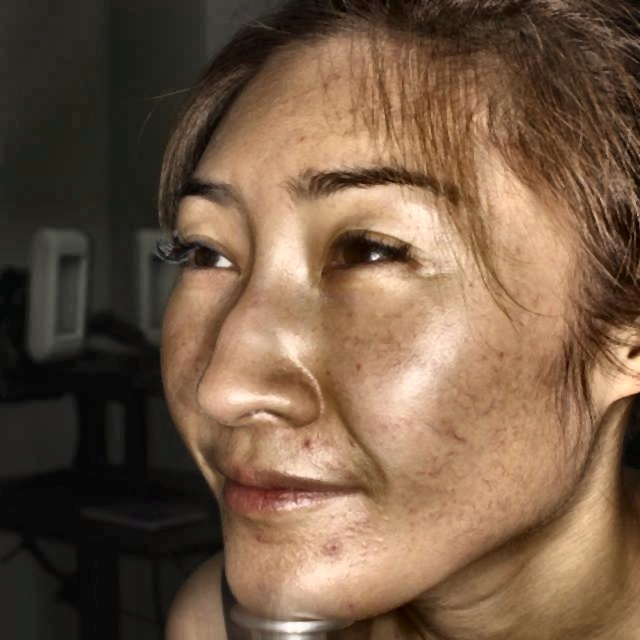comedone: (326, 539, 341, 554), (301, 435, 317, 448)
